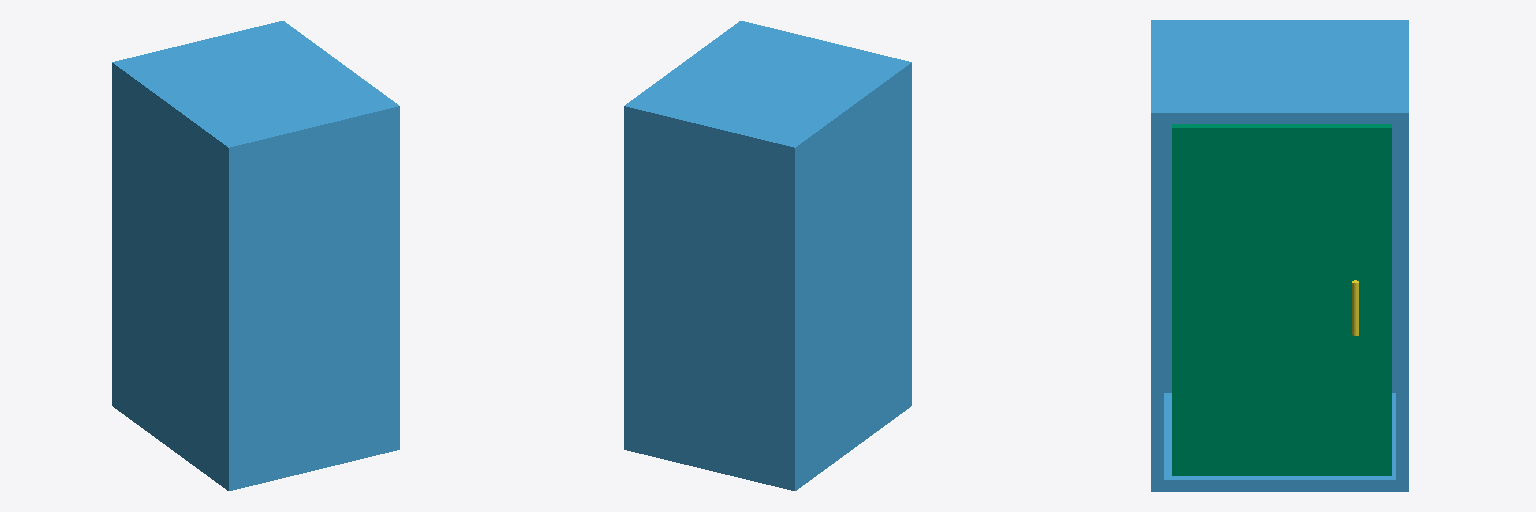
URDF robot description (my_cabinet):
<?xml version="1.0" ?>
<robot name="my_cabinet">
	<link name="world"/>
	<joint name="virtual_joint" type="fixed">
		<parent link="world"/>
		<child link="base_cabinet_link"/>
		<origin xyz="0.0 0.0 0.0" rpy="0.0 0.0 0.0"/>
	</joint>
	<link name="base_cabinet_link">
		<visual>
			<origin xyz="0.0 -0.0025 -0.2785907808266512" rpy="0.0 0.0 0.0"/>
			<geometry>
				<box size="0.3 0.35443715500565703 0.018"/>
			</geometry>
		</visual>
		<collision name="base_cabinet_link_collision_0">
			<origin xyz="0.0 -0.0025 -0.2785907808266512" rpy="0.0 0.0 0.0"/>
			<geometry>
				<box size="0.3 0.35443715500565703 0.018"/>
			</geometry>
		</collision>
		<visual>
			<origin xyz="0.0 0.16571857750282853 0.0" rpy="0.0 0.0 0.0"/>
			<geometry>
				<box size="0.3 0.018 0.5751815616533024"/>
			</geometry>
		</visual>
		<collision name="base_cabinet_link_collision_1">
			<origin xyz="0.0 0.16571857750282853 0.0" rpy="0.0 0.0 0.0"/>
			<geometry>
				<box size="0.3 0.018 0.5751815616533024"/>
			</geometry>
		</collision>
		<visual>
			<origin xyz="0.0 -0.17071857750282854 0.0" rpy="0.0 0.0 0.0"/>
			<geometry>
				<box size="0.3 0.018 0.5751815616533024"/>
			</geometry>
		</visual>
		<collision name="base_cabinet_link_collision_2">
			<origin xyz="0.0 -0.17071857750282854 0.0" rpy="0.0 0.0 0.0"/>
			<geometry>
				<box size="0.3 0.018 0.5751815616533024"/>
			</geometry>
		</collision>
		<visual>
			<origin xyz="0.0 -0.0025 0.2785907808266512" rpy="0.0 0.0 0.0"/>
			<geometry>
				<box size="0.3 0.35443715500565703 0.018"/>
			</geometry>
		</visual>
		<collision name="base_cabinet_link_collision_3">
			<origin xyz="0.0 -0.0025 0.2785907808266512" rpy="0.0 0.0 0.0"/>
			<geometry>
				<box size="0.3 0.35443715500565703 0.018"/>
			</geometry>
		</collision>
		<visual>
			<origin xyz="-0.141 -0.0025 0.0" rpy="0.0 0.0 0.0"/>
			<geometry>
				<box size="0.018 0.35443715500565703 0.5751815616533024"/>
			</geometry>
		</visual>
		<collision name="base_cabinet_link_collision_4">
			<origin xyz="-0.141 -0.0025 0.0" rpy="0.0 0.0 0.0"/>
			<geometry>
				<box size="0.018 0.35443715500565703 0.5751815616533024"/>
			</geometry>
		</collision>
		<inertial>
			<mass value="0.200000"/>
			<inertia ixx="0.007608" ixy="0.0" ixz="0.0" iyy="0.007014" iyz="0.0" izz="0.003594"/>
		</inertial>
	</link>
	<link name="door_link">
		<visual>
			<origin xyz="0.0 -0.15171857750282852 0.0"/>
			<geometry>
				<box size="0.018 0.30343715500565704 0.5291815616533023"/>
			</geometry>
		</visual>
		<collision name="door_link_collision">
			<origin xyz="0.0 -0.15171857750282852 0.0"/>
			<geometry>
				<box size="0.018 0.30343715500565704 0.5291815616533023"/>
			</geometry>
		</collision>
		<inertial>
			<mass value="0.200000"/>
			<inertia ixx="0.006202" ixy="0.0" ixz="0.0" iyy="0.004673" iyz="0.0" izz="0.001540"/>
		</inertial>
	</link>
	<joint name="door_joint" type="revolute">
		<origin xyz="0.141 -0.15171857750282852 0.0" rpy="0.000000 -0.000000 3.141593"/>
		<axis xyz="0 0 1"/>
		<parent link="base_cabinet_link"/>
		<child link="door_link"/>
		<limit effort="50" lower="-1.658062789394613" upper="0" velocity="10"/>
		<dynamics friction="3.5" damping="3.5"/>
	</joint>
	<link name="handle_link">
		<visual>
			<origin xyz="0.0 0.0 0.0" rpy="0.0 0.0 0.0"/>
			<geometry>
				<cylinder length="0.08" radius="0.005"/>
			</geometry>
		</visual>
		<collision name="handle_link_collision_0">
			<origin xyz="0.0 0.0 0.0" rpy="0.0 0.0 0.0"/>
			<geometry>
				<cylinder length="0.08" radius="0.005"/>
			</geometry>
		</collision>
		<visual>
			<origin xyz="-0.01 0.0 0.02" rpy="0.0 1.5707963267948966 0.0"/>
			<geometry>
				<cylinder length="0.02" radius="0.003"/>
			</geometry>
		</visual>
		<collision name="handle_link_collision_1">
			<origin xyz="-0.01 0.0 0.02" rpy="0.0 1.5707963267948966 0.0"/>
			<geometry>
				<cylinder length="0.01" radius="0.003"/>
			</geometry>
		</collision>
		<visual>
			<origin xyz="-0.01 0.0 -0.02" rpy="0.0 1.5707963267948966 0.0"/>
			<geometry>
				<cylinder length="0.02" radius="0.003"/>
			</geometry>
		</visual>
		<collision name="handle_link_collision_2">
			<origin xyz="-0.01 0.0 -0.02" rpy="0.0 1.5707963267948966 0.0"/>
			<geometry>
				<cylinder length="0.02" radius="0.003"/>
			</geometry>
		</collision>
		<inertial>
			<mass value="0.050000"/>
			<inertia ixx="0.000027" ixy="0.0" ixz="0.0" iyy="0.000029" iyz="0.0" izz="0.000003"/>
		</inertial>
	</link>
	<joint name="handle_joint" type="fixed">
		<origin xyz="-0.028999999999999998 -0.25343715500565706 0.0" rpy="0.000000 -0.000000 3.141593"/>
		<parent link="door_link"/>
		<child link="handle_link"/>
	</joint>
	<gazebo reference="base_cabinet_link">
		<sensor name="main_sensor" type="contact">
			<selfCollide>true</selfCollide>
			<alwaysOn>true</alwaysOn>
			<updateRate>5.0</updateRate>
			<material>Gazebo/Red</material>
			<contact>
				<collision>base_cabinet_link_collision_0_collision</collision>
				<collision>base_cabinet_link_collision_1_collision</collision>
				<collision>base_cabinet_link_collision_2_collision</collision>
				<collision>base_cabinet_link_collision_3_collision</collision>
				<collision>base_cabinet_link_collision_4_collision</collision>
			</contact>
			<plugin name="gazebo_ros_bumper_controller" filename="libgazebo_ros_bumper.so">
				<bumperTopicName>/contact</bumperTopicName>
				<frameName>world</frameName>
			</plugin>
		</sensor>
	</gazebo>
	<gazebo reference="door_link">
		<sensor name="main_sensor" type="contact">
			<selfCollide>true</selfCollide>
			<alwaysOn>true</alwaysOn>
			<updateRate>5.0</updateRate>
			<material>Gazebo/Red</material>
			<contact>
				<collision>door_link_collision_collision</collision>
			</contact>
			<plugin name="gazebo_ros_bumper_controller" filename="libgazebo_ros_bumper.so">
				<bumperTopicName>/contact_door</bumperTopicName>
				<frameName>contact_door</frameName>
			</plugin>
		</sensor>
	</gazebo>
	<gazebo reference="door_link">
		<mu>3.0</mu>
		<mu2>3.0</mu2>
		<kp>10000000</kp>
		<kd>100</kd>
	</gazebo>
</robot>

--- Render facts (derived) ---
The picture shows the robot from 3 angles, left to right: view 1: azimuth 30°, elevation 25°; view 2: azimuth 150°, elevation 25°; view 3: azimuth 270°, elevation 25°; orthographic projection.
Robot: my_cabinet — 4 links, 3 joints (1 revolute, 2 fixed); root link world; default pose: every joint at zero.
Visible links, largest first — view 1: base_cabinet_link; view 2: base_cabinet_link; view 3: door_link, base_cabinet_link.
Link boxes in pixels (x1=…): base_cabinet_link: x1=112, y1=21, x2=399, y2=490; base_cabinet_link: x1=624, y1=21, x2=911, y2=490; door_link: x1=1172, y1=124, x2=1391, y2=475; base_cabinet_link: x1=1151, y1=20, x2=1408, y2=491.
Size in the robot's own frame: 0.325 by 0.3544 by 0.5752 metres.
Geometry: primitives only (box / cylinder / sphere), no mesh files.
